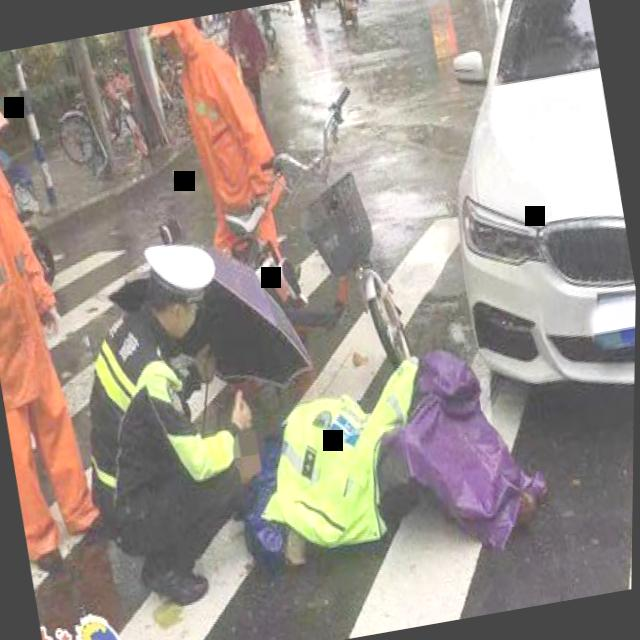Fall-Detected: (216, 316, 557, 591)
